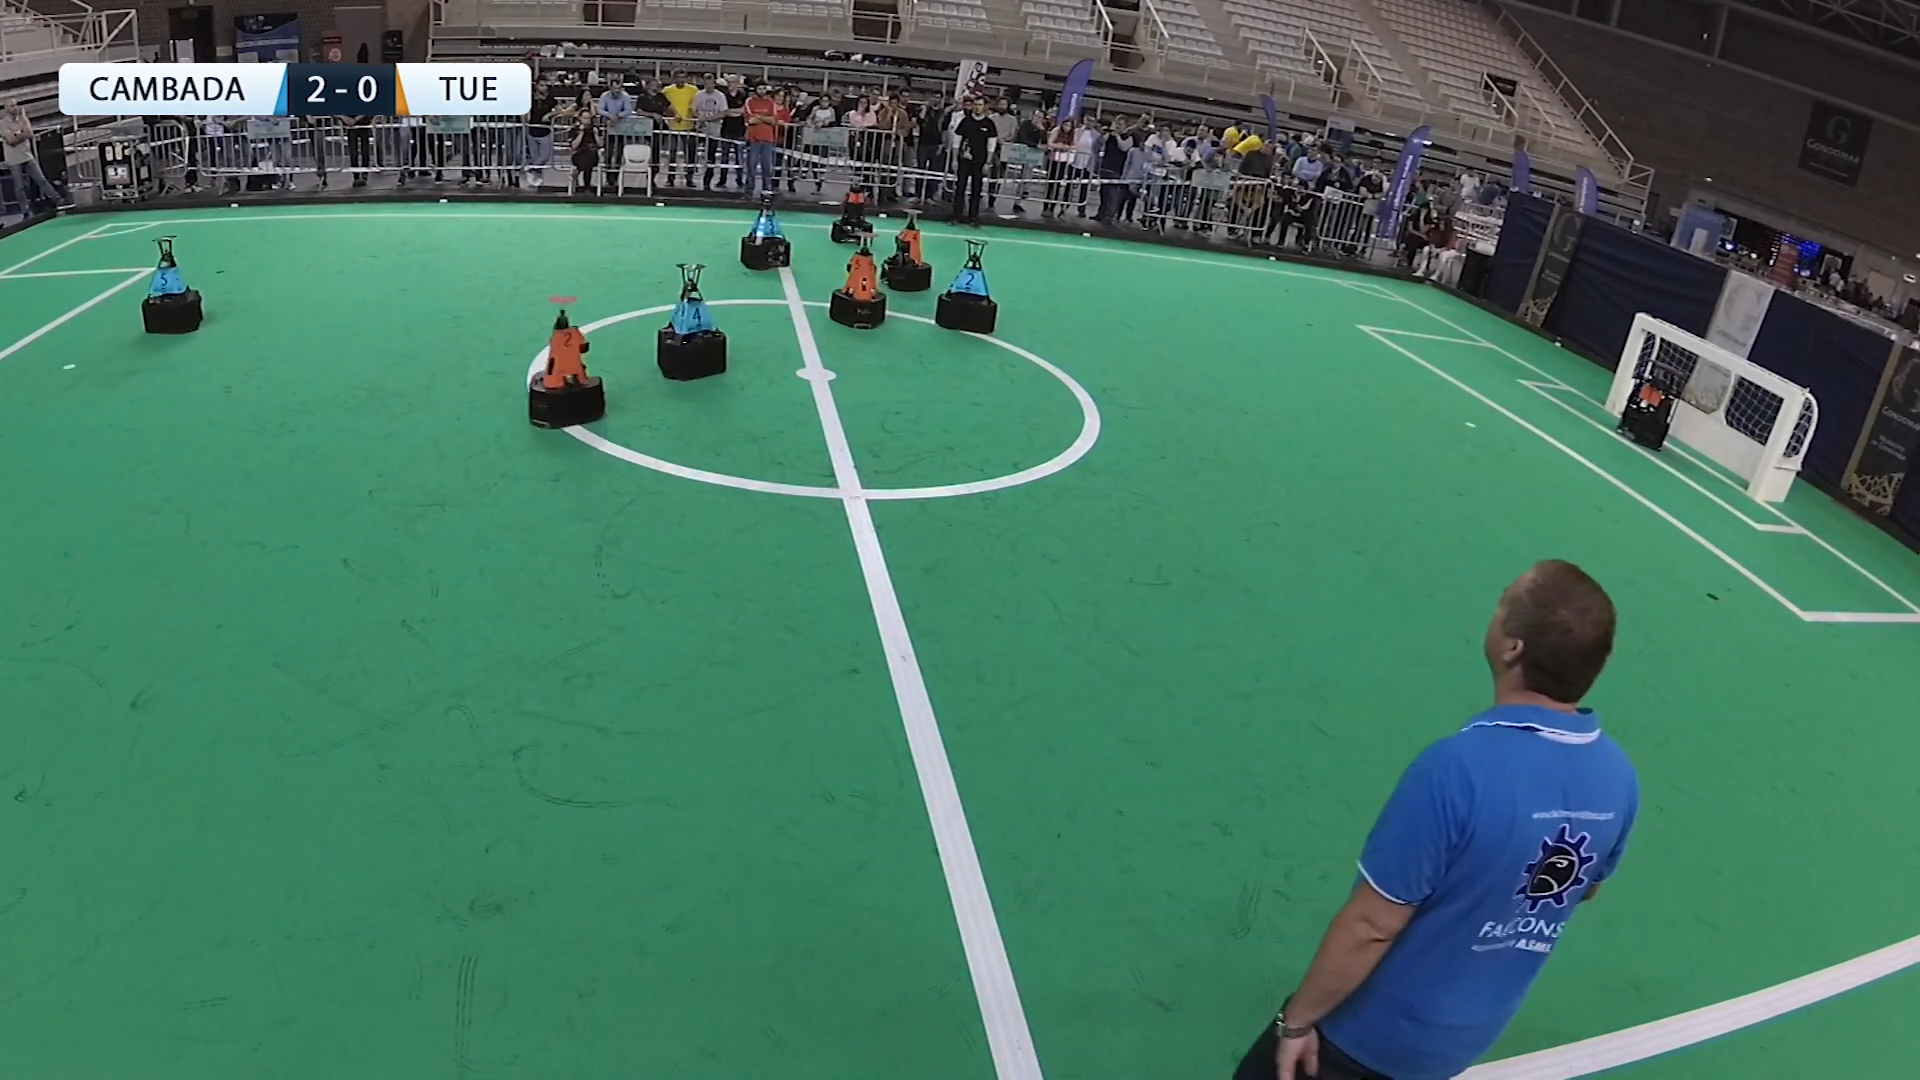BLUE2: (939, 237, 992, 334)
BLUE3: (738, 189, 793, 272)
BLUE4: (653, 272, 731, 372)
BLUE5: (142, 251, 193, 338)
RED2: (529, 297, 607, 433)
RED3: (847, 186, 865, 218)
RED4: (887, 206, 934, 305)
RED5: (828, 237, 884, 328)
R_Goalie: (1611, 375, 1691, 444)
Referee: (1245, 553, 1647, 1080)
